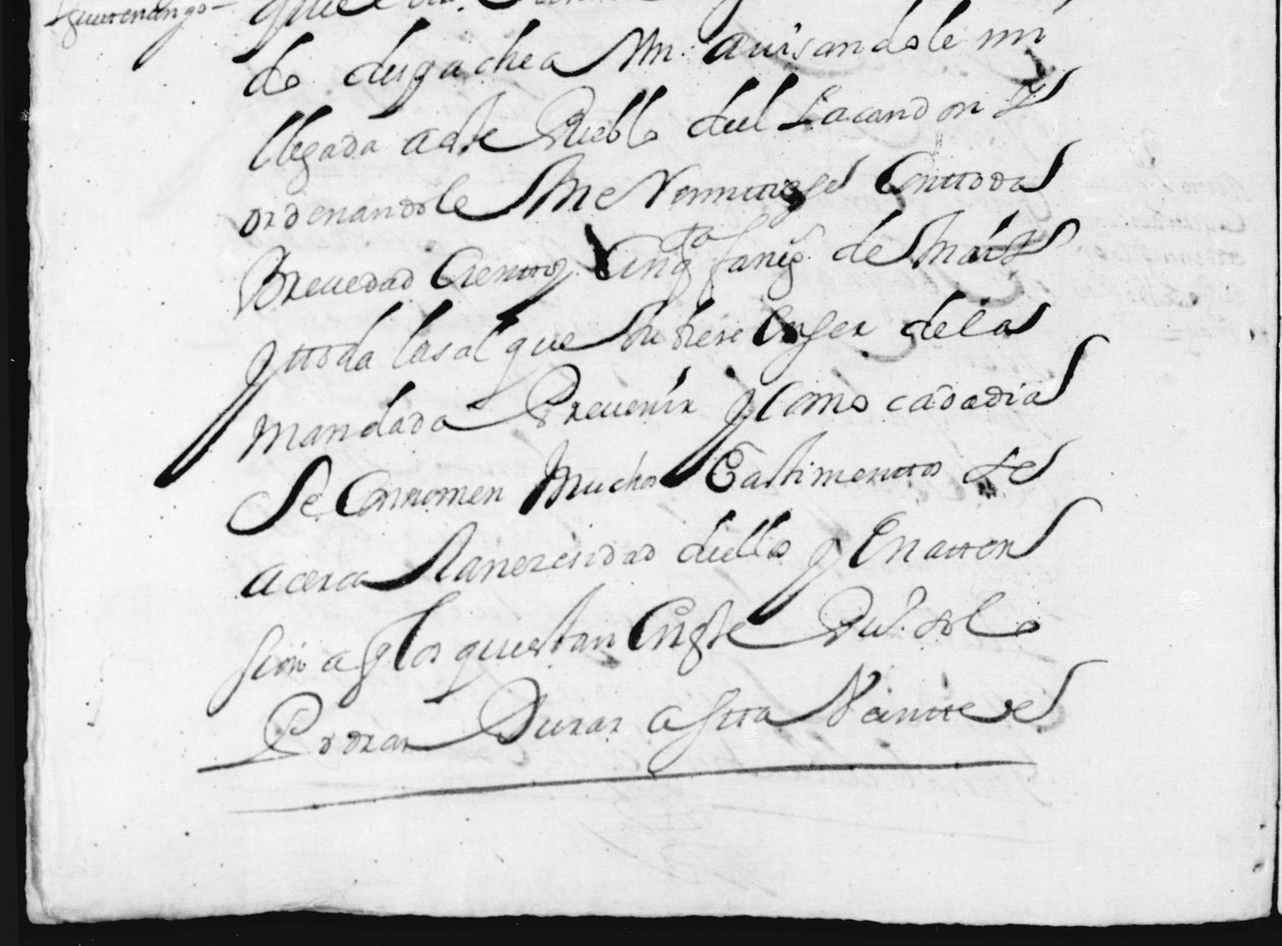lacandon: (776, 85, 984, 130)
